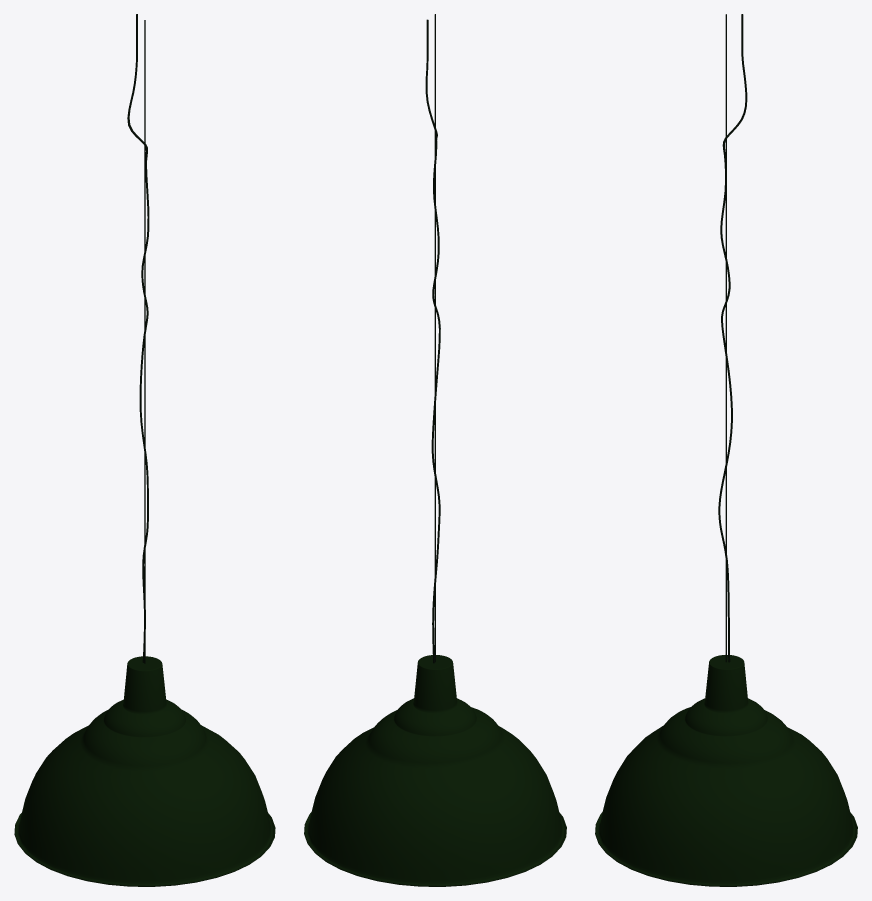
File: LampCeiling.FBX
3 views of the same model, side by side, from view 1: azimuth 30°, elevation 25°; view 2: azimuth 150°, elevation 25°; view 3: azimuth 270°, elevation 25° (orthographic).
Visible parts, largest first — view 1: Lamp Uvs; view 2: Lamp Uvs; view 3: Lamp Uvs.
Boxes of the visible parts, x1,y1,x2,y2 form: Lamp Uvs: (14, 14, 275, 886); Lamp Uvs: (304, 14, 566, 886); Lamp Uvs: (595, 14, 857, 886).
Size of the model in its own units: 0.4207 by 1.44 by 0.4207.
